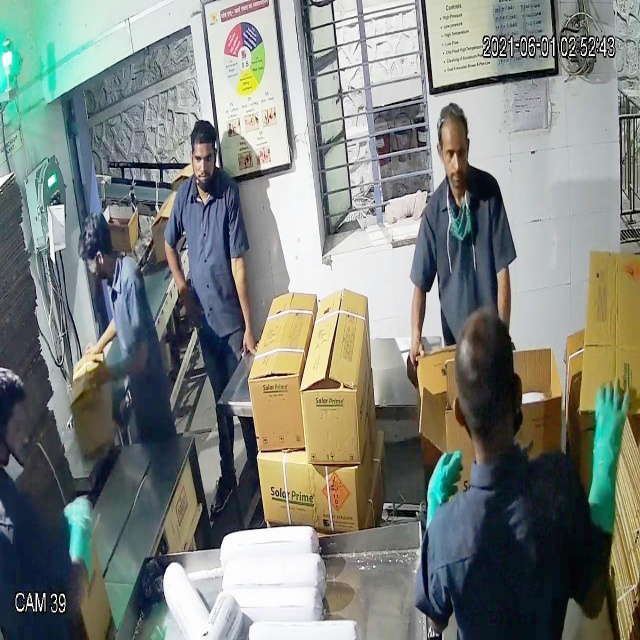Sin_gafas: (433, 138, 476, 168), (187, 143, 220, 173)
